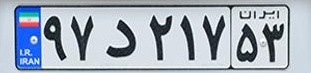character: (103, 13, 142, 65), (67, 12, 101, 65), (145, 11, 176, 64), (199, 10, 228, 64), (233, 20, 262, 67), (42, 12, 68, 64), (260, 20, 287, 66), (177, 11, 199, 67)
